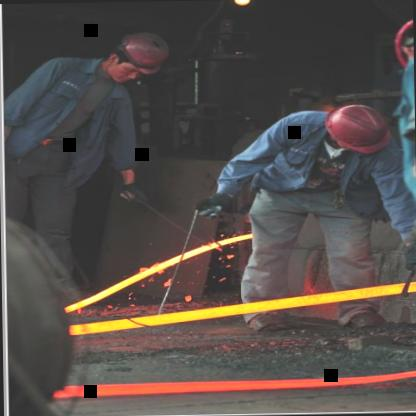helmet: (318, 101, 393, 159), (98, 30, 170, 85), (392, 12, 414, 78)
